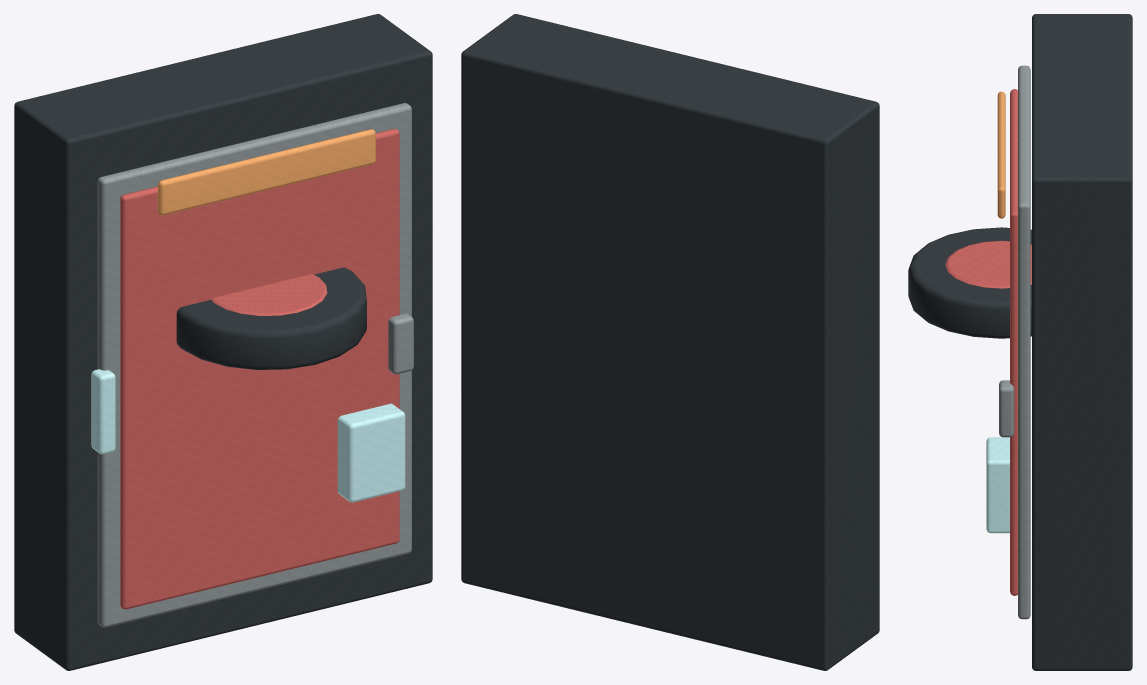
The model's file is WallFireHose.glb.
The picture shows the model from 3 angles, left to right: view 1: azimuth 30°, elevation 25°; view 2: azimuth 150°, elevation 25°; view 3: azimuth 270°, elevation 25°; orthographic projection. The views are drawn at different scales.
Parts seen in each view (by area): view 1: WallFireHose_Mesh; view 2: WallFireHose_Mesh; view 3: WallFireHose_Mesh.
Part boxes in pixels (x1=…): WallFireHose_Mesh: x1=14, y1=14, x2=432, y2=670; WallFireHose_Mesh: x1=461, y1=14, x2=879, y2=670; WallFireHose_Mesh: x1=908, y1=14, x2=1132, y2=670.
Size of the model in its own units: 0.78 by 1.08 by 0.445.
5 materials, 5 textured.
